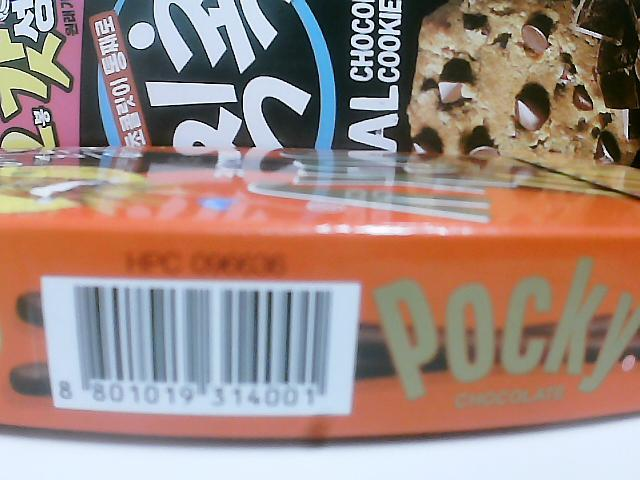redpocky-1800-2025-7-23: (41, 283, 354, 417)
